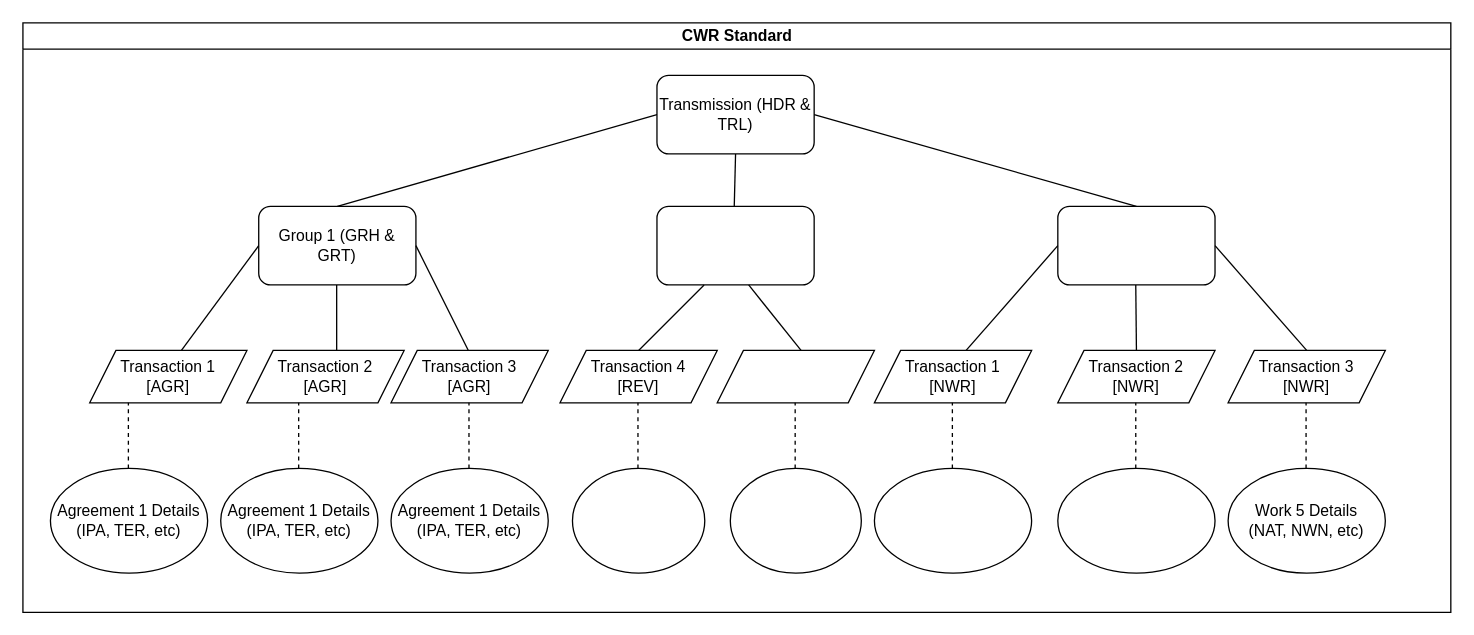
The diagram is 1474 pixels wide and 635 high, and some of its shapes have lost their labels. The centre of each missing label's shape, as x and y in pixels:
Group 2 (GRH & GRT): point 735,245
Group 3 (GRH & GRT): point 1136,245
Transaction 5 [REV]: point 795,376
Work 1 Details (NAT, NWN, etc): point 638,520
Work 2 Details (NAT, NWN, etc): point 795,520
Work 3 Details (NAT, NWN, etc): point 952,520
Work 4 Details (NAT, NWN, etc): point 1136,520
